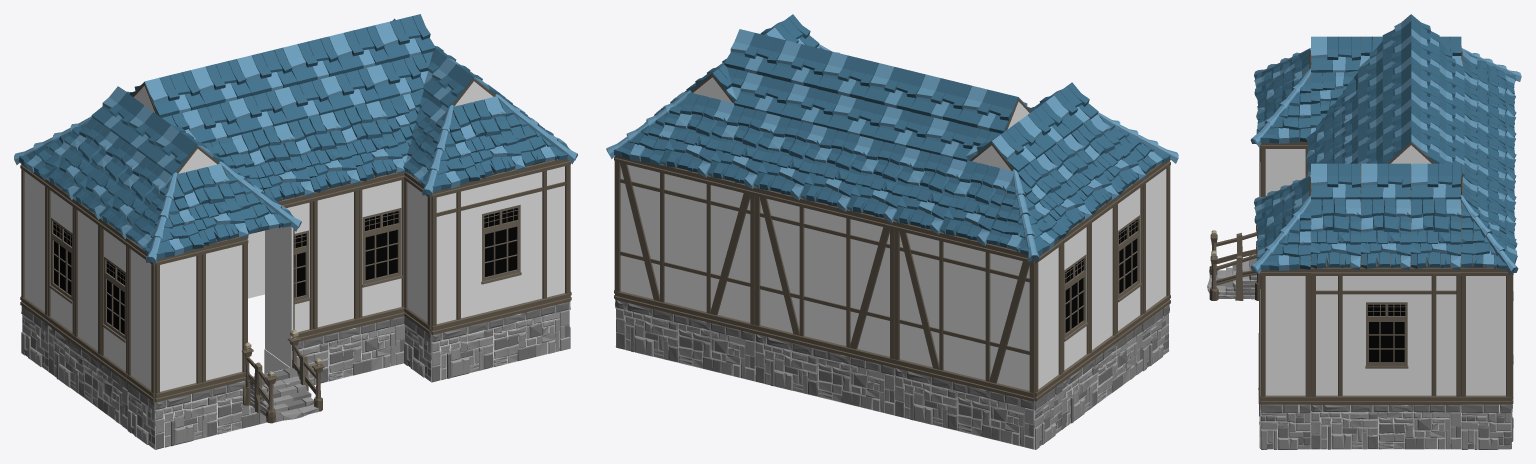
Rendered from house_09_parts.fbx.
3 renders of one model, left to right at view 1: azimuth 30°, elevation 25°; view 2: azimuth 150°, elevation 25°; view 3: azimuth 270°, elevation 25°, orthographic. The views are drawn at different scales.
Parts seen in each view (by area): view 1: WINDOW_03_2, WALL_03_6, WALL_03_4, WINDOW_04_4, FOUNDATION_02_26, WALL_03_3, FOUNDATION_02_25, FOUNDATION_02_24, STAIRS_06_4, WALL_03_7, WALL_03_8, WALL_03_10 (+41 smaller); view 2: WALL_02_4, WALL_02_3, WALL_02_2, FOUNDATION_02_28, FOUNDATION_02_29, FOUNDATION_02_30, WALL_03_9, WALL_03_8, WALL_03_7, WINDOW_04_6, WINDOW_04_5, FOUNDATION_02_31 (+31 smaller); view 3: WINDOW_03_3, WALL_03_12, WALL_03_11, FOUNDATION_02_27, ROOF_base_13, ROOF_base_12, ROOF_base_11, ROOF_corner_out_7, ROOF_corner_out_5, ROOF_corner_out_3, STAIRS_06_4, FOUNDATION_03_12 (+49 smaller).
Boxes of the visible parts, left/top/right/bottom form: WINDOW_03_2: left=431, top=159, right=570, bottom=334; WALL_03_6: left=313, top=184, right=359, bottom=337; WALL_03_4: left=155, top=248, right=202, bottom=402; WINDOW_04_4: left=359, top=172, right=404, bottom=326; FOUNDATION_02_26: left=431, top=302, right=569, bottom=382; WALL_03_3: left=201, top=237, right=248, bottom=391; FOUNDATION_02_25: left=155, top=369, right=282, bottom=449; FOUNDATION_02_24: left=296, top=316, right=404, bottom=386; STAIRS_06_4: left=242, top=329, right=324, bottom=423; WALL_03_7: left=126, top=238, right=155, bottom=401; WALL_03_8: left=73, top=199, right=101, bottom=362; WALL_03_10: left=404, top=172, right=431, bottom=334; WALL_02_4: left=894, top=221, right=1034, bottom=401; WALL_02_3: left=754, top=187, right=894, bottom=367; WALL_02_2: left=615, top=155, right=754, bottom=333; FOUNDATION_02_28: left=616, top=300, right=755, bottom=381; FOUNDATION_02_29: left=755, top=334, right=894, bottom=415; FOUNDATION_02_30: left=895, top=368, right=1034, bottom=449; WALL_03_9: left=1034, top=238, right=1063, bottom=401; WALL_03_8: left=1089, top=199, right=1117, bottom=361; WALL_03_7: left=1143, top=159, right=1170, bottom=322; WINDOW_04_6: left=1062, top=218, right=1090, bottom=381; WINDOW_04_5: left=1116, top=179, right=1143, bottom=342; FOUNDATION_02_31: left=1061, top=324, right=1142, bottom=429; WINDOW_03_3: left=1311, top=267, right=1461, bottom=404; WALL_03_12: left=1461, top=267, right=1511, bottom=404; WALL_03_11: left=1260, top=268, right=1310, bottom=404; FOUNDATION_02_27: left=1311, top=405, right=1461, bottom=449; ROOF_base_13: left=1410, top=199, right=1461, bottom=270; ROOF_base_12: left=1360, top=199, right=1411, bottom=270; ROOF_base_11: left=1310, top=198, right=1361, bottom=270; ROOF_corner_out_7: left=1461, top=195, right=1518, bottom=275; ROOF_corner_out_5: left=1250, top=195, right=1311, bottom=274; ROOF_corner_out_3: left=1250, top=68, right=1311, bottom=146; STAIRS_06_4: left=1207, top=225, right=1258, bottom=300; FOUNDATION_03_12: left=1461, top=404, right=1511, bottom=449.
Size of the model in its own units: 941 by 609 by 627.
